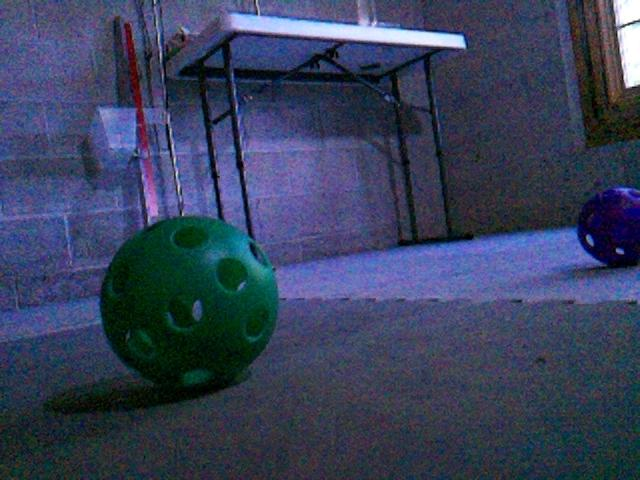Green: (96, 216, 279, 392)
Purple: (575, 187, 640, 268)
